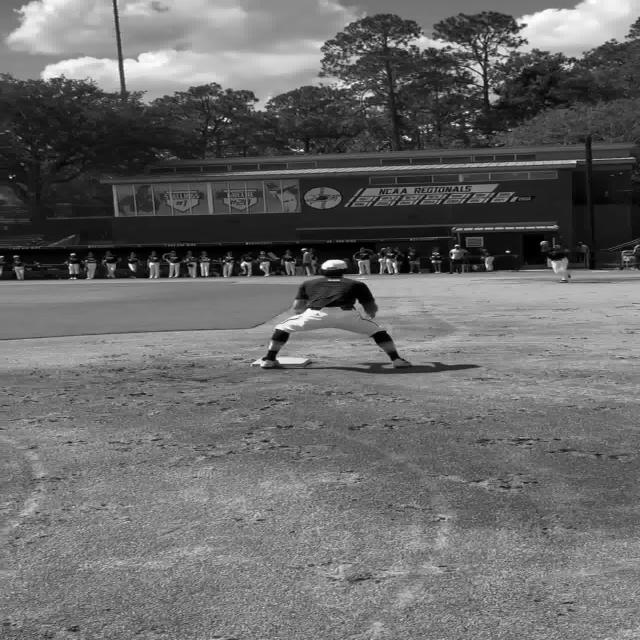base: (278, 356, 311, 369), (251, 360, 260, 366)
shoe: (258, 359, 280, 369), (391, 358, 411, 369)
